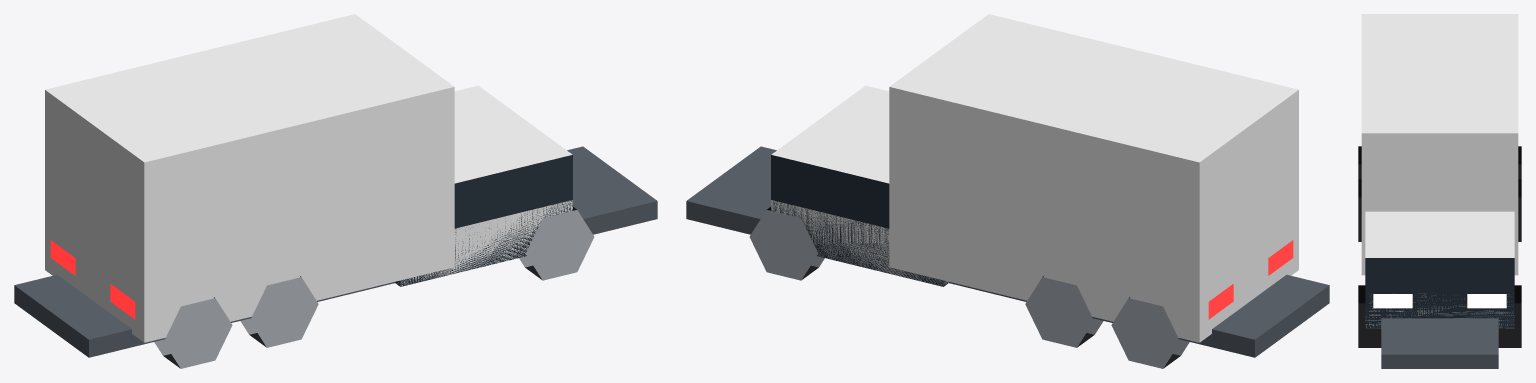
The model's file is truck.glb.
3 views of the same model, side by side, from view 1: azimuth 30°, elevation 25°; view 2: azimuth 150°, elevation 25°; view 3: azimuth 270°, elevation 25° (orthographic). The views are drawn at different scales.
Parts seen in each view (by area): view 1: truck; view 2: truck; view 3: truck.
Boxes of the visible parts, x1,y1,x2,y2 form: truck: (14, 14, 657, 368); truck: (686, 14, 1329, 368); truck: (1358, 14, 1521, 368).
Bounding box in the file's own units: 0.66 × 0.2366 × 0.208.
